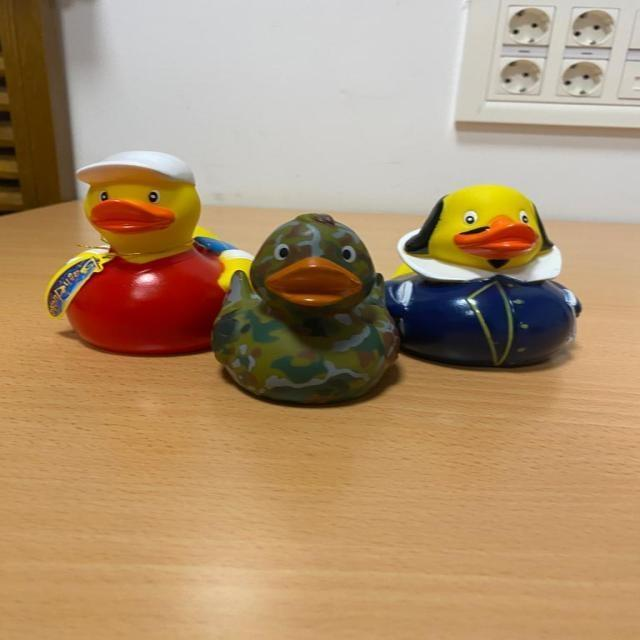rubber-duck: (45, 150, 249, 352), (211, 212, 398, 401), (384, 184, 577, 365)
